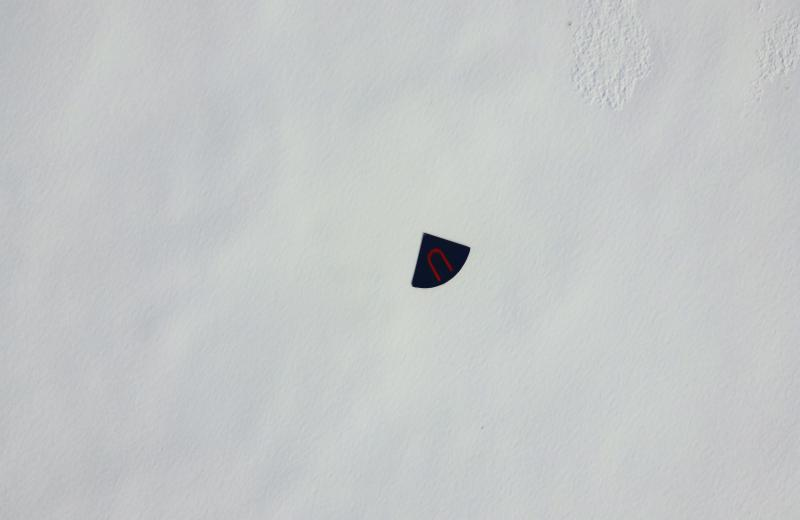Quarter Circle: (410, 226, 474, 291)
